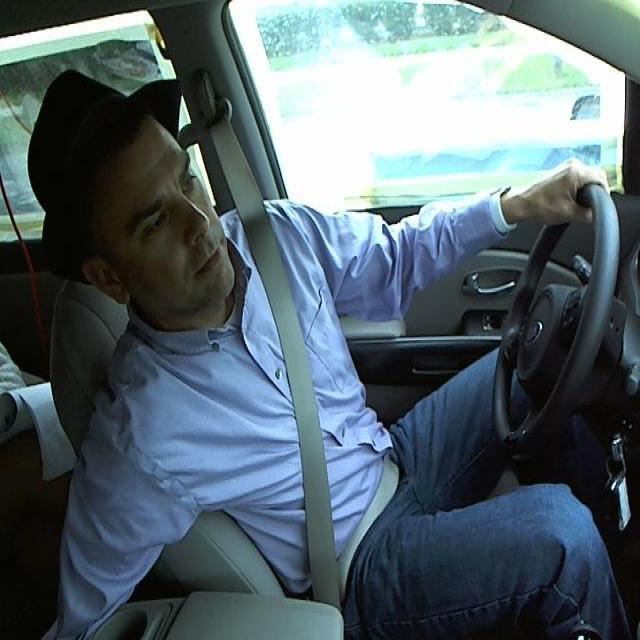seatbelt: (248, 235, 326, 413)
